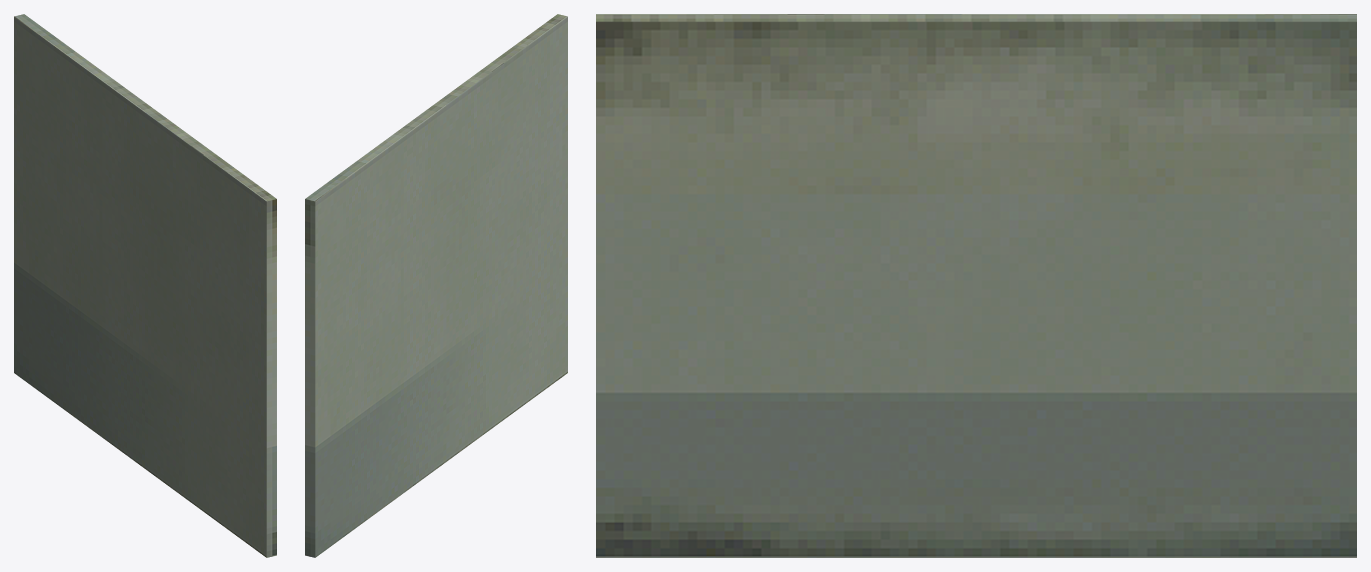
Rendered from SM_PatientRoom_Wall_1.fbx.
3 views of the same model, side by side, from view 1: azimuth 30°, elevation 25°; view 2: azimuth 150°, elevation 25°; view 3: azimuth 270°, elevation 25° (orthographic). The views are drawn at different scales.
Parts seen in each view (by area): view 1: SM_PatientRoom_Wall_1; view 2: SM_PatientRoom_Wall_1; view 3: SM_PatientRoom_Wall_1.
Part boxes in pixels (x1,y1,x2,y2): SM_PatientRoom_Wall_1: [14, 14, 276, 557]; SM_PatientRoom_Wall_1: [305, 14, 567, 557]; SM_PatientRoom_Wall_1: [596, 14, 1356, 557].
Size of the model in its own units: 9.03 by 300 by 386.
